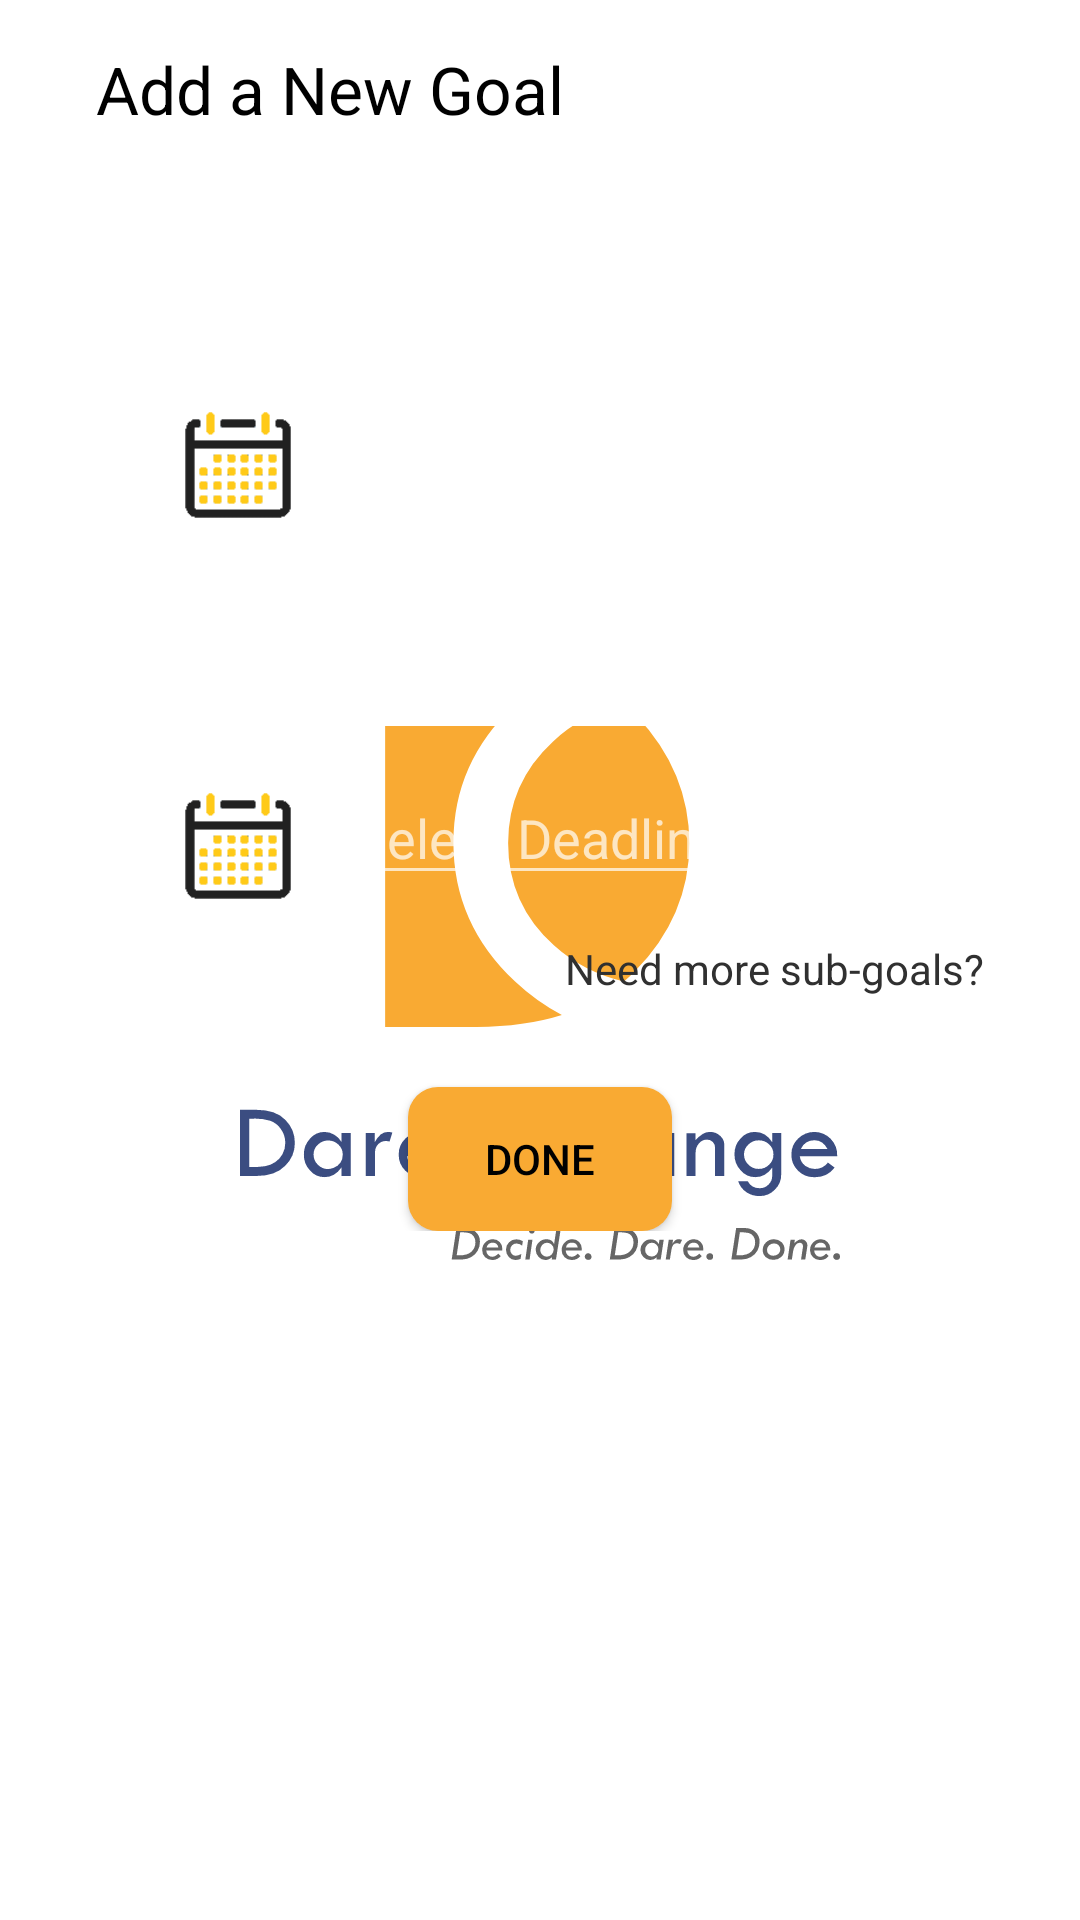

Named icons in this screenshot (1080px x 1920px) and their bounding boxes, (x1, y1, x2, y2):
calendar: (185, 412, 291, 518), (185, 793, 291, 899)
